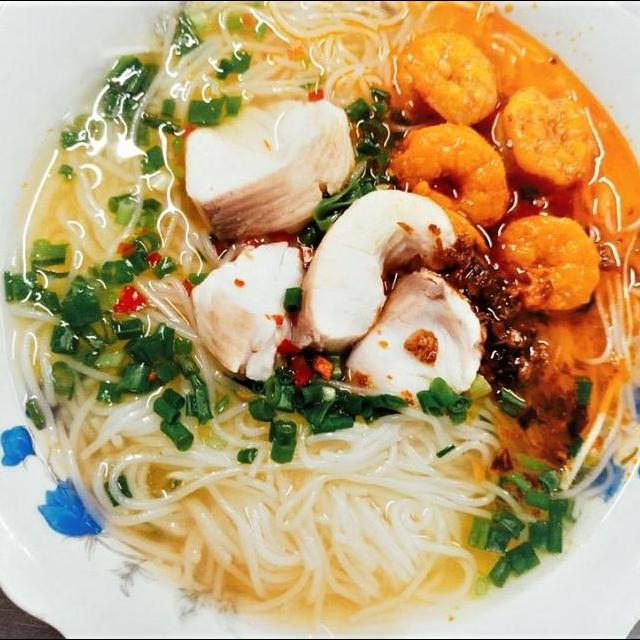bun: (5, 390, 640, 639), (0, 33, 197, 639), (107, 2, 613, 99)
bun ca: (0, 40, 640, 588)
ca: (285, 180, 464, 367), (179, 96, 360, 249), (338, 263, 492, 416), (183, 235, 314, 388)
tom: (386, 115, 513, 233), (390, 26, 502, 133), (490, 85, 600, 193), (492, 208, 602, 315)
